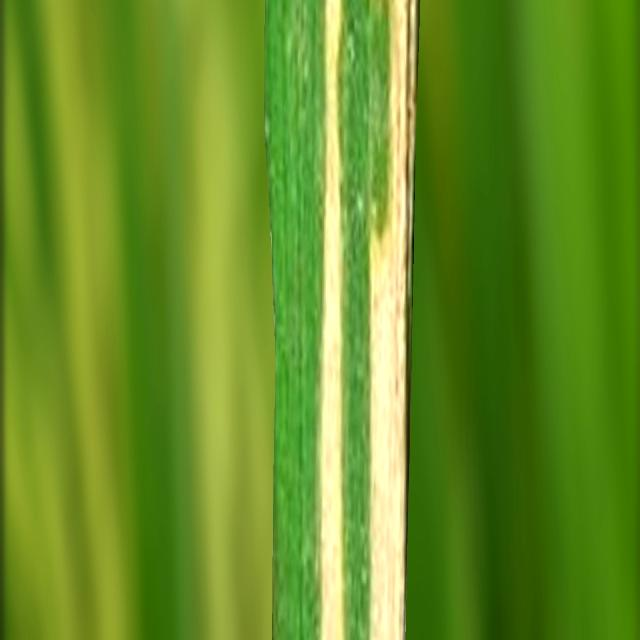BLB: (367, 0, 417, 639), (315, 0, 352, 640)
